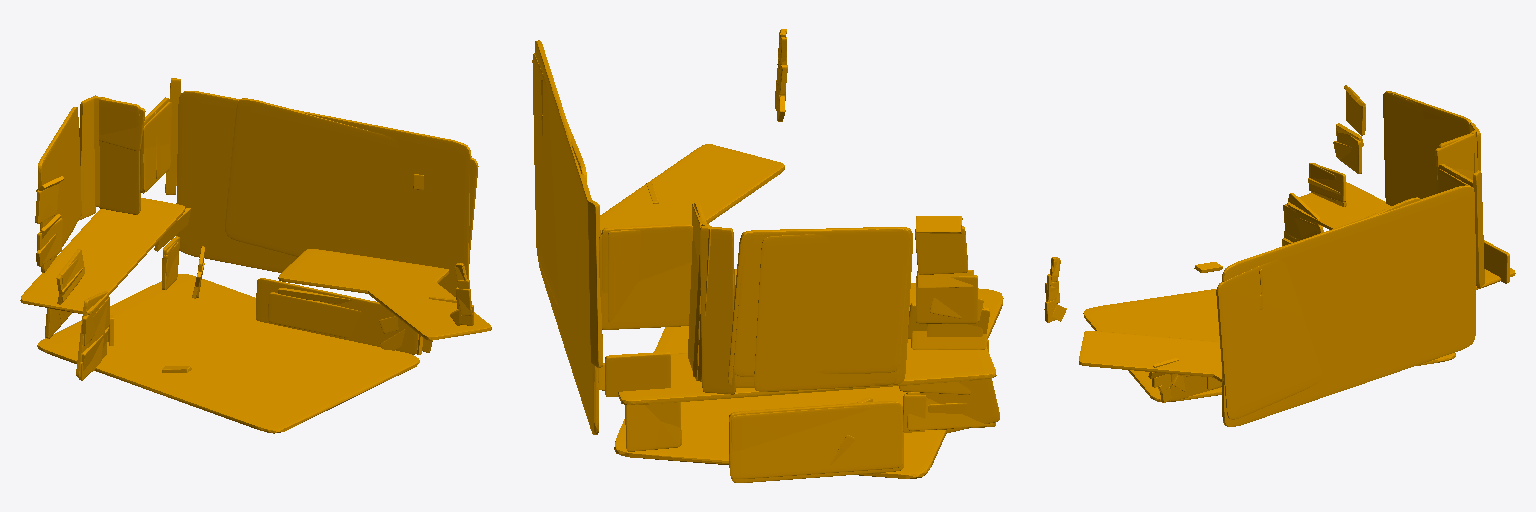
robot.urdf — scene:
<?xml version='1.0' encoding='utf-8'?>
<robot name="scene"><link name="scene_link"><visual><origin xyz="0.000000 0.000000 0.000000" rpy="0.000000 -0.000000 0.000000" /><geometry><mesh filename="part_000.obj" /></geometry></visual><collision><origin xyz="0.000000 0.000000 0.000000" rpy="0.000000 -0.000000 0.000000" /><geometry><mesh filename="part_000.obj" /></geometry></collision><visual><origin xyz="0.000000 0.000000 0.000000" rpy="0.000000 -0.000000 0.000000" /><geometry><mesh filename="part_001.obj" /></geometry></visual><collision><origin xyz="0.000000 0.000000 0.000000" rpy="0.000000 -0.000000 0.000000" /><geometry><mesh filename="part_001.obj" /></geometry></collision><visual><origin xyz="0.000000 0.000000 0.000000" rpy="0.000000 -0.000000 0.000000" /><geometry><mesh filename="part_002.obj" /></geometry></visual><collision><origin xyz="0.000000 0.000000 0.000000" rpy="0.000000 -0.000000 0.000000" /><geometry><mesh filename="part_002.obj" /></geometry></collision><visual><origin xyz="0.000000 0.000000 0.000000" rpy="0.000000 -0.000000 0.000000" /><geometry><mesh filename="part_003.obj" /></geometry></visual><collision><origin xyz="0.000000 0.000000 0.000000" rpy="0.000000 -0.000000 0.000000" /><geometry><mesh filename="part_003.obj" /></geometry></collision><visual><origin xyz="0.000000 0.000000 0.000000" rpy="0.000000 -0.000000 0.000000" /><geometry><mesh filename="part_004.obj" /></geometry></visual><collision><origin xyz="0.000000 0.000000 0.000000" rpy="0.000000 -0.000000 0.000000" /><geometry><mesh filename="part_004.obj" /></geometry></collision><visual><origin xyz="0.000000 0.000000 0.000000" rpy="0.000000 -0.000000 0.000000" /><geometry><mesh filename="part_005.obj" /></geometry></visual><collision><origin xyz="0.000000 0.000000 0.000000" rpy="0.000000 -0.000000 0.000000" /><geometry><mesh filename="part_005.obj" /></geometry></collision><visual><origin xyz="0.000000 0.000000 0.000000" rpy="0.000000 -0.000000 0.000000" /><geometry><mesh filename="part_006.obj" /></geometry></visual><collision><origin xyz="0.000000 0.000000 0.000000" rpy="0.000000 -0.000000 0.000000" /><geometry><mesh filename="part_006.obj" /></geometry></collision><visual><origin xyz="0.000000 0.000000 0.000000" rpy="0.000000 -0.000000 0.000000" /><geometry><mesh filename="part_007.obj" /></geometry></visual><collision><origin xyz="0.000000 0.000000 0.000000" rpy="0.000000 -0.000000 0.000000" /><geometry><mesh filename="part_007.obj" /></geometry></collision><visual><origin xyz="0.000000 0.000000 0.000000" rpy="0.000000 -0.000000 0.000000" /><geometry><mesh filename="part_008.obj" /></geometry></visual><collision><origin xyz="0.000000 0.000000 0.000000" rpy="0.000000 -0.000000 0.000000" /><geometry><mesh filename="part_008.obj" /></geometry></collision><visual><origin xyz="0.000000 0.000000 0.000000" rpy="0.000000 -0.000000 0.000000" /><geometry><mesh filename="part_009.obj" /></geometry></visual><collision><origin xyz="0.000000 0.000000 0.000000" rpy="0.000000 -0.000000 0.000000" /><geometry><mesh filename="part_009.obj" /></geometry></collision><visual><origin xyz="0.000000 0.000000 0.000000" rpy="0.000000 -0.000000 0.000000" /><geometry><mesh filename="part_010.obj" /></geometry></visual><collision><origin xyz="0.000000 0.000000 0.000000" rpy="0.000000 -0.000000 0.000000" /><geometry><mesh filename="part_010.obj" /></geometry></collision><visual><origin xyz="0.000000 0.000000 0.000000" rpy="0.000000 -0.000000 0.000000" /><geometry><mesh filename="part_011.obj" /></geometry></visual><collision><origin xyz="0.000000 0.000000 0.000000" rpy="0.000000 -0.000000 0.000000" /><geometry><mesh filename="part_011.obj" /></geometry></collision><visual><origin xyz="0.000000 0.000000 0.000000" rpy="0.000000 -0.000000 0.000000" /><geometry><mesh filename="part_012.obj" /></geometry></visual><collision><origin xyz="0.000000 0.000000 0.000000" rpy="0.000000 -0.000000 0.000000" /><geometry><mesh filename="part_012.obj" /></geometry></collision><visual><origin xyz="0.000000 0.000000 0.000000" rpy="0.000000 -0.000000 0.000000" /><geometry><mesh filename="part_013.obj" /></geometry></visual><collision><origin xyz="0.000000 0.000000 0.000000" rpy="0.000000 -0.000000 0.000000" /><geometry><mesh filename="part_013.obj" /></geometry></collision><visual><origin xyz="0.000000 0.000000 0.000000" rpy="0.000000 -0.000000 0.000000" /><geometry><mesh filename="part_014.obj" /></geometry></visual><collision><origin xyz="0.000000 0.000000 0.000000" rpy="0.000000 -0.000000 0.000000" /><geometry><mesh filename="part_014.obj" /></geometry></collision><visual><origin xyz="0.000000 0.000000 0.000000" rpy="0.000000 -0.000000 0.000000" /><geometry><mesh filename="part_015.obj" /></geometry></visual><collision><origin xyz="0.000000 0.000000 0.000000" rpy="0.000000 -0.000000 0.000000" /><geometry><mesh filename="part_015.obj" /></geometry></collision><visual><origin xyz="0.000000 0.000000 0.000000" rpy="0.000000 -0.000000 0.000000" /><geometry><mesh filename="part_016.obj" /></geometry></visual><collision><origin xyz="0.000000 0.000000 0.000000" rpy="0.000000 -0.000000 0.000000" /><geometry><mesh filename="part_016.obj" /></geometry></collision><visual><origin xyz="0.000000 0.000000 0.000000" rpy="0.000000 -0.000000 0.000000" /><geometry><mesh filename="part_017.obj" /></geometry></visual><collision><origin xyz="0.000000 0.000000 0.000000" rpy="0.000000 -0.000000 0.000000" /><geometry><mesh filename="part_017.obj" /></geometry></collision><visual><origin xyz="0.000000 0.000000 0.000000" rpy="0.000000 -0.000000 0.000000" /><geometry><mesh filename="part_018.obj" /></geometry></visual><collision><origin xyz="0.000000 0.000000 0.000000" rpy="0.000000 -0.000000 0.000000" /><geometry><mesh filename="part_018.obj" /></geometry></collision><visual><origin xyz="0.000000 0.000000 0.000000" rpy="0.000000 -0.000000 0.000000" /><geometry><mesh filename="part_019.obj" /></geometry></visual><collision><origin xyz="0.000000 0.000000 0.000000" rpy="0.000000 -0.000000 0.000000" /><geometry><mesh filename="part_019.obj" /></geometry></collision><visual><origin xyz="0.000000 0.000000 0.000000" rpy="0.000000 -0.000000 0.000000" /><geometry><mesh filename="part_020.obj" /></geometry></visual><collision><origin xyz="0.000000 0.000000 0.000000" rpy="0.000000 -0.000000 0.000000" /><geometry><mesh filename="part_020.obj" /></geometry></collision><visual><origin xyz="0.000000 0.000000 0.000000" rpy="0.000000 -0.000000 0.000000" /><geometry><mesh filename="part_021.obj" /></geometry></visual><collision><origin xyz="0.000000 0.000000 0.000000" rpy="0.000000 -0.000000 0.000000" /><geometry><mesh filename="part_021.obj" /></geometry></collision><visual><origin xyz="0.000000 0.000000 0.000000" rpy="0.000000 -0.000000 0.000000" /><geometry><mesh filename="part_022.obj" /></geometry></visual><collision><origin xyz="0.000000 0.000000 0.000000" rpy="0.000000 -0.000000 0.000000" /><geometry><mesh filename="part_022.obj" /></geometry></collision><visual><origin xyz="0.000000 0.000000 0.000000" rpy="0.000000 -0.000000 0.000000" /><geometry><mesh filename="part_023.obj" /></geometry></visual><collision><origin xyz="0.000000 0.000000 0.000000" rpy="0.000000 -0.000000 0.000000" /><geometry><mesh filename="part_023.obj" /></geometry></collision><visual><origin xyz="0.000000 0.000000 0.000000" rpy="0.000000 -0.000000 0.000000" /><geometry><mesh filename="part_024.obj" /></geometry></visual><collision><origin xyz="0.000000 0.000000 0.000000" rpy="0.000000 -0.000000 0.000000" /><geometry><mesh filename="part_024.obj" /></geometry></collision><visual><origin xyz="0.000000 0.000000 0.000000" rpy="0.000000 -0.000000 0.000000" /><geometry><mesh filename="part_025.obj" /></geometry></visual><collision><origin xyz="0.000000 0.000000 0.000000" rpy="0.000000 -0.000000 0.000000" /><geometry><mesh filename="part_025.obj" /></geometry></collision><visual><origin xyz="0.000000 0.000000 0.000000" rpy="0.000000 -0.000000 0.000000" /><geometry><mesh filename="part_026.obj" /></geometry></visual><collision><origin xyz="0.000000 0.000000 0.000000" rpy="0.000000 -0.000000 0.000000" /><geometry><mesh filename="part_026.obj" /></geometry></collision><visual><origin xyz="0.000000 0.000000 0.000000" rpy="0.000000 -0.000000 0.000000" /><geometry><mesh filename="part_027.obj" /></geometry></visual><collision><origin xyz="0.000000 0.000000 0.000000" rpy="0.000000 -0.000000 0.000000" /><geometry><mesh filename="part_027.obj" /></geometry></collision><visual><origin xyz="0.000000 0.000000 0.000000" rpy="0.000000 -0.000000 0.000000" /><geometry><mesh filename="part_028.obj" /></geometry></visual><collision><origin xyz="0.000000 0.000000 0.000000" rpy="0.000000 -0.000000 0.000000" /><geometry><mesh filename="part_028.obj" /></geometry></collision><visual><origin xyz="0.000000 0.000000 0.000000" rpy="0.000000 -0.000000 0.000000" /><geometry><mesh filename="part_029.obj" /></geometry></visual><collision><origin xyz="0.000000 0.000000 0.000000" rpy="0.000000 -0.000000 0.000000" /><geometry><mesh filename="part_029.obj" /></geometry></collision><visual><origin xyz="0.000000 0.000000 0.000000" rpy="0.000000 -0.000000 0.000000" /><geometry><mesh filename="part_030.obj" /></geometry></visual><collision><origin xyz="0.000000 0.000000 0.000000" rpy="0.000000 -0.000000 0.000000" /><geometry><mesh filename="part_030.obj" /></geometry></collision><visual><origin xyz="0.000000 0.000000 0.000000" rpy="0.000000 -0.000000 0.000000" /><geometry><mesh filename="part_031.obj" /></geometry></visual><collision><origin xyz="0.000000 0.000000 0.000000" rpy="0.000000 -0.000000 0.000000" /><geometry><mesh filename="part_031.obj" /></geometry></collision><visual><origin xyz="0.000000 0.000000 0.000000" rpy="0.000000 -0.000000 0.000000" /><geometry><mesh filename="part_032.obj" /></geometry></visual><collision><origin xyz="0.000000 0.000000 0.000000" rpy="0.000000 -0.000000 0.000000" /><geometry><mesh filename="part_032.obj" /></geometry></collision><visual><origin xyz="0.000000 0.000000 0.000000" rpy="0.000000 -0.000000 0.000000" /><geometry><mesh filename="part_033.obj" /></geometry></visual><collision><origin xyz="0.000000 0.000000 0.000000" rpy="0.000000 -0.000000 0.000000" /><geometry><mesh filename="part_033.obj" /></geometry></collision><visual><origin xyz="0.000000 0.000000 0.000000" rpy="0.000000 -0.000000 0.000000" /><geometry><mesh filename="part_034.obj" /></geometry></visual><collision><origin xyz="0.000000 0.000000 0.000000" rpy="0.000000 -0.000000 0.000000" /><geometry><mesh filename="part_034.obj" /></geometry></collision><visual><origin xyz="0.000000 0.000000 0.000000" rpy="0.000000 -0.000000 0.000000" /><geometry><mesh filename="part_035.obj" /></geometry></visual><collision><origin xyz="0.000000 0.000000 0.000000" rpy="0.000000 -0.000000 0.000000" /><geometry><mesh filename="part_035.obj" /></geometry></collision><visual><origin xyz="0.000000 0.000000 0.000000" rpy="0.000000 -0.000000 0.000000" /><geometry><mesh filename="part_036.obj" /></geometry></visual><collision><origin xyz="0.000000 0.000000 0.000000" rpy="0.000000 -0.000000 0.000000" /><geometry><mesh filename="part_036.obj" /></geometry></collision><visual><origin xyz="0.000000 0.000000 0.000000" rpy="0.000000 -0.000000 0.000000" /><geometry><mesh filename="part_037.obj" /></geometry></visual><collision><origin xyz="0.000000 0.000000 0.000000" rpy="0.000000 -0.000000 0.000000" /><geometry><mesh filename="part_037.obj" /></geometry></collision><visual><origin xyz="0.000000 0.000000 0.000000" rpy="0.000000 -0.000000 0.000000" /><geometry><mesh filename="part_038.obj" /></geometry></visual><collision><origin xyz="0.000000 0.000000 0.000000" rpy="0.000000 -0.000000 0.000000" /><geometry><mesh filename="part_038.obj" /></geometry></collision><visual><origin xyz="0.000000 0.000000 0.000000" rpy="0.000000 -0.000000 0.000000" /><geometry><mesh filename="part_039.obj" /></geometry></visual><collision><origin xyz="0.000000 0.000000 0.000000" rpy="0.000000 -0.000000 0.000000" /><geometry><mesh filename="part_039.obj" /></geometry></collision><visual><origin xyz="0.000000 0.000000 0.000000" rpy="0.000000 -0.000000 0.000000" /><geometry><mesh filename="part_040.obj" /></geometry></visual><collision><origin xyz="0.000000 0.000000 0.000000" rpy="0.000000 -0.000000 0.000000" /><geometry><mesh filename="part_040.obj" /></geometry></collision><visual><origin xyz="0.000000 0.000000 0.000000" rpy="0.000000 -0.000000 0.000000" /><geometry><mesh filename="part_041.obj" /></geometry></visual><collision><origin xyz="0.000000 0.000000 0.000000" rpy="0.000000 -0.000000 0.000000" /><geometry><mesh filename="part_041.obj" /></geometry></collision><visual><origin xyz="0.000000 0.000000 0.000000" rpy="0.000000 -0.000000 0.000000" /><geometry><mesh filename="part_042.obj" /></geometry></visual><collision><origin xyz="0.000000 0.000000 0.000000" rpy="0.000000 -0.000000 0.000000" /><geometry><mesh filename="part_042.obj" /></geometry></collision><visual><origin xyz="0.000000 0.000000 0.000000" rpy="0.000000 -0.000000 0.000000" /><geometry><mesh filename="part_043.obj" /></geometry></visual><collision><origin xyz="0.000000 0.000000 0.000000" rpy="0.000000 -0.000000 0.000000" /><geometry><mesh filename="part_043.obj" /></geometry></collision><visual><origin xyz="0.000000 0.000000 0.000000" rpy="0.000000 -0.000000 0.000000" /><geometry><mesh filename="part_044.obj" /></geometry></visual><collision><origin xyz="0.000000 0.000000 0.000000" rpy="0.000000 -0.000000 0.000000" /><geometry><mesh filename="part_044.obj" /></geometry></collision><visual><origin xyz="0.000000 0.000000 0.000000" rpy="0.000000 -0.000000 0.000000" /><geometry><mesh filename="part_045.obj" /></geometry></visual><collision><origin xyz="0.000000 0.000000 0.000000" rpy="0.000000 -0.000000 0.000000" /><geometry><mesh filename="part_045.obj" /></geometry></collision><visual><origin xyz="0.000000 0.000000 0.000000" rpy="0.000000 -0.000000 0.000000" /><geometry><mesh filename="part_046.obj" /></geometry></visual><collision><origin xyz="0.000000 0.000000 0.000000" rpy="0.000000 -0.000000 0.000000" /><geometry><mesh filename="part_046.obj" /></geometry></collision><visual><origin xyz="0.000000 0.000000 0.000000" rpy="0.000000 -0.000000 0.000000" /><geometry><mesh filename="part_047.obj" /></geometry></visual><collision><origin xyz="0.000000 0.000000 0.000000" rpy="0.000000 -0.000000 0.000000" /><geometry><mesh filename="part_047.obj" /></geometry></collision><visual><origin xyz="0.000000 0.000000 0.000000" rpy="0.000000 -0.000000 0.000000" /><geometry><mesh filename="part_048.obj" /></geometry></visual><collision><origin xyz="0.000000 0.000000 0.000000" rpy="0.000000 -0.000000 0.000000" /><geometry><mesh filename="part_048.obj" /></geometry></collision><visual><origin xyz="0.000000 0.000000 0.000000" rpy="0.000000 -0.000000 0.000000" /><geometry><mesh filename="part_049.obj" /></geometry></visual><collision><origin xyz="0.000000 0.000000 0.000000" rpy="0.000000 -0.000000 0.000000" /><geometry><mesh filename="part_049.obj" /></geometry></collision><visual><origin xyz="0.000000 0.000000 0.000000" rpy="0.000000 -0.000000 0.000000" /><geometry><mesh filename="part_050.obj" /></geometry></visual><collision><origin xyz="0.000000 0.000000 0.000000" rpy="0.000000 -0.000000 0.000000" /><geometry><mesh filename="part_050.obj" /></geometry></collision><visual><origin xyz="0.000000 0.000000 0.000000" rpy="0.000000 -0.000000 0.000000" /><geometry><mesh filename="part_051.obj" /></geometry></visual><collision><origin xyz="0.000000 0.000000 0.000000" rpy="0.000000 -0.000000 0.000000" /><geometry><mesh filename="part_051.obj" /></geometry></collision><visual><origin xyz="0.000000 0.000000 0.000000" rpy="0.000000 -0.000000 0.000000" /><geometry><mesh filename="part_052.obj" /></geometry></visual><collision><origin xyz="0.000000 0.000000 0.000000" rpy="0.000000 -0.000000 0.000000" /><geometry><mesh filename="part_052.obj" /></geometry></collision><visual><origin xyz="0.000000 0.000000 0.000000" rpy="0.000000 -0.000000 0.000000" /><geometry><mesh filename="part_053.obj" /></geometry></visual><collision><origin xyz="0.000000 0.000000 0.000000" rpy="0.000000 -0.000000 0.000000" /><geometry><mesh filename="part_053.obj" /></geometry></collision><visual><origin xyz="0.000000 0.000000 0.000000" rpy="0.000000 -0.000000 0.000000" /><geometry><mesh filename="part_054.obj" /></geometry></visual><collision><origin xyz="0.000000 0.000000 0.000000" rpy="0.000000 -0.000000 0.000000" /><geometry><mesh filename="part_054.obj" /></geometry></collision><visual><origin xyz="0.000000 0.000000 0.000000" rpy="0.000000 -0.000000 0.000000" /><geometry><mesh filename="part_055.obj" /></geometry></visual><collision><origin xyz="0.000000 0.000000 0.000000" rpy="0.000000 -0.000000 0.000000" /><geometry><mesh filename="part_055.obj" /></geometry></collision><visual><origin xyz="0.000000 0.000000 0.000000" rpy="0.000000 -0.000000 0.000000" /><geometry><mesh filename="part_056.obj" /></geometry></visual><collision><origin xyz="0.000000 0.000000 0.000000" rpy="0.000000 -0.000000 0.000000" /><geometry><mesh filename="part_056.obj" /></geometry></collision><visual><origin xyz="0.000000 0.000000 0.000000" rpy="0.000000 -0.000000 0.000000" /><geometry><mesh filename="part_057.obj" /></geometry></visual><collision><origin xyz="0.000000 0.000000 0.000000" rpy="0.000000 -0.000000 0.000000" /><geometry><mesh filename="part_057.obj" /></geometry></collision><visual><origin xyz="0.000000 0.000000 0.000000" rpy="0.000000 -0.000000 0.000000" /><geometry><mesh filename="part_058.obj" /></geometry></visual><collision><origin xyz="0.000000 0.000000 0.000000" rpy="0.000000 -0.000000 0.000000" /><geometry><mesh filename="part_058.obj" /></geometry></collision><visual><origin xyz="0.000000 0.000000 0.000000" rpy="0.000000 -0.000000 0.000000" /><geometry><mesh filename="part_059.obj" /></geometry></visual><collision><origin xyz="0.000000 0.000000 0.000000" rpy="0.000000 -0.000000 0.000000" /><geometry><mesh filename="part_059.obj" /></geometry></collision><visual><origin xyz="0.000000 0.000000 0.000000" rpy="0.000000 -0.000000 0.000000" /><geometry><mesh filename="part_060.obj" /></geometry></visual><collision><origin xyz="0.000000 0.000000 0.000000" rpy="0.000000 -0.000000 0.000000" /><geometry><mesh filename="part_060.obj" /></geometry></collision><visual><origin xyz="0.000000 0.000000 0.000000" rpy="0.000000 -0.000000 0.000000" /><geometry><mesh filename="part_061.obj" /></geometry></visual><collision><origin xyz="0.000000 0.000000 0.000000" rpy="0.000000 -0.000000 0.000000" /><geometry><mesh filename="part_061.obj" /></geometry></collision><visual><origin xyz="0.000000 0.000000 0.000000" rpy="0.000000 -0.000000 0.000000" /><geometry><mesh filename="part_062.obj" /></geometry></visual><collision><origin xyz="0.000000 0.000000 0.000000" rpy="0.000000 -0.000000 0.000000" /><geometry><mesh filename="part_062.obj" /></geometry></collision><visual><origin xyz="0.000000 0.000000 0.000000" rpy="0.000000 -0.000000 0.000000" /><geometry><mesh filename="part_063.obj" /></geometry></visual><collision><origin xyz="0.000000 0.000000 0.000000" rpy="0.000000 -0.000000 0.000000" /><geometry><mesh filename="part_063.obj" /></geometry></collision><visual><origin xyz="0.000000 0.000000 0.000000" rpy="0.000000 -0.000000 0.000000" /><geometry><mesh filename="part_064.obj" /></geometry></visual><collision><origin xyz="0.000000 0.000000 0.000000" rpy="0.000000 -0.000000 0.000000" /><geometry><mesh filename="part_064.obj" /></geometry></collision><visual><origin xyz="0.000000 0.000000 0.000000" rpy="0.000000 -0.000000 0.000000" /><geometry><mesh filename="part_065.obj" /></geometry></visual><collision><origin xyz="0.000000 0.000000 0.000000" rpy="0.000000 -0.000000 0.000000" /><geometry><mesh filename="part_065.obj" /></geometry></collision><visual><origin xyz="0.000000 0.000000 0.000000" rpy="0.000000 -0.000000 0.000000" /><geometry><mesh filename="part_066.obj" /></geometry></visual><collision><origin xyz="0.000000 0.000000 0.000000" rpy="0.000000 -0.000000 0.000000" /><geometry><mesh filename="part_066.obj" /></geometry></collision><visual><origin xyz="0.000000 0.000000 0.000000" rpy="0.000000 -0.000000 0.000000" /><geometry><mesh filename="part_067.obj" /></geometry></visual><collision><origin xyz="0.000000 0.000000 0.000000" rpy="0.000000 -0.000000 0.000000" /><geometry><mesh filename="part_067.obj" /></geometry></collision></link></robot>

--- What the picture shows (computed from the rendered views, not written in the file) ---
Views: 3 orthographic renders of the robot side by side, from view 1: azimuth 30°, elevation 25°; view 2: azimuth 150°, elevation 25°; view 3: azimuth 270°, elevation 25°.
Robot: scene — 1 links, 0 joints (none); root link scene_link; default pose: all joints at 0.
Visible links, largest first — view 1: scene_link; view 2: scene_link; view 3: scene_link.
Boxes of the visible links, box(x1,y1,x2,y2) form: scene_link: box(20, 78, 491, 433); scene_link: box(532, 29, 1003, 482); scene_link: box(1044, 85, 1515, 426).
Size in the robot's own frame: 4.53 by 4.66 by 2.1 metres.
Meshes: 68 distinct files referenced, 68 mesh visuals loaded (68 OBJ).